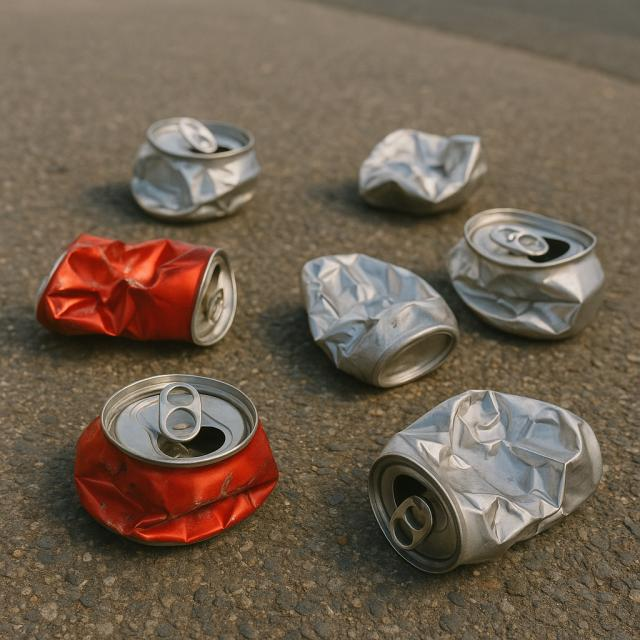aluminum: (348, 394, 611, 570), (63, 375, 280, 547), (42, 222, 232, 354), (451, 207, 608, 340), (129, 116, 263, 221)
